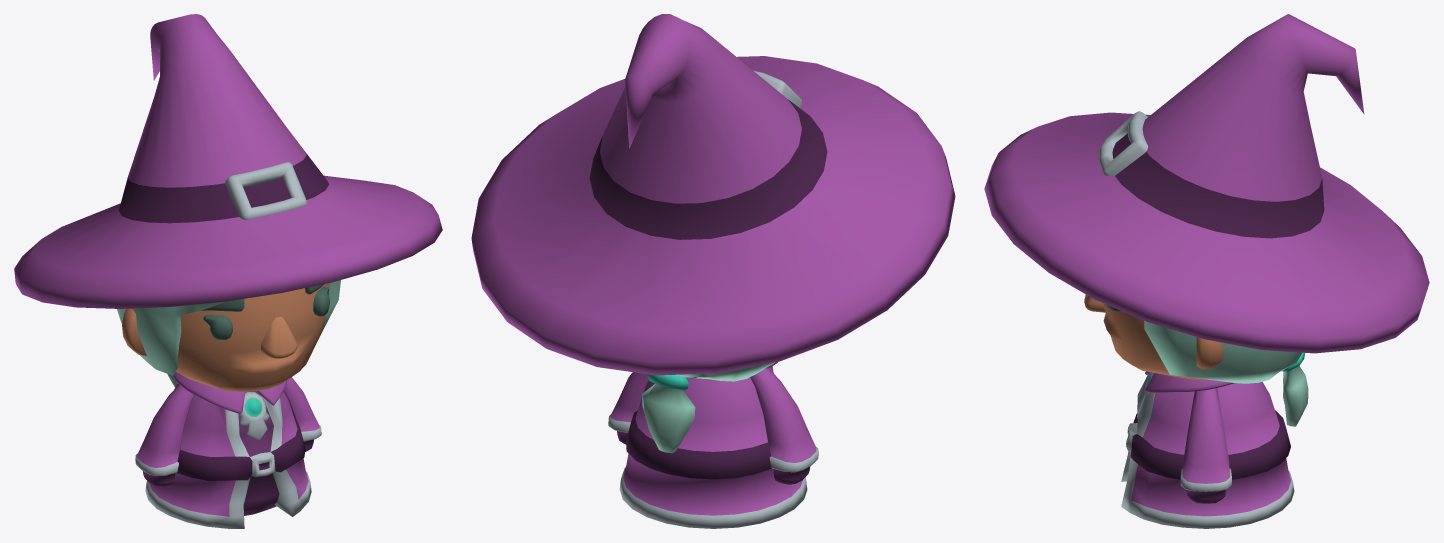
File: mage44.gltf
3 views of the same model, side by side, from view 1: azimuth 30°, elevation 25°; view 2: azimuth 150°, elevation 25°; view 3: azimuth 270°, elevation 25° (orthographic). The views are drawn at different scales.
Parts seen in each view (by area): view 1: character_mageHat, character_mageBody, character_mageHead, character_mageArmRight, character_mageHair, character_mageArnLeft; view 2: character_mageHat, character_mageBody, character_mageArmRight, character_mageHair, character_mageArnLeft; view 3: character_mageHat, character_mageBody, character_mageHair, character_mageArnLeft, character_mageHead.
Boxes of the visible parts, x1,y1,x2,y2 form: character_mageHat: (14, 14, 442, 308); character_mageBody: (145, 372, 311, 528); character_mageHead: (122, 283, 329, 391); character_mageArmRight: (135, 384, 194, 487); character_mageHair: (117, 280, 340, 387); character_mageArnLeft: (284, 377, 321, 451); character_mageHat: (471, 14, 955, 375); character_mageBody: (619, 362, 807, 528); character_mageArmRight: (750, 368, 818, 484); character_mageHair: (641, 362, 774, 453); character_mageArnLeft: (608, 372, 648, 444); character_mageHat: (984, 14, 1429, 353); character_mageBody: (1121, 371, 1294, 528); character_mageHair: (1144, 320, 1308, 426); character_mageArnLeft: (1180, 388, 1231, 503); character_mageHead: (1084, 294, 1223, 380).
Bounding box in the file's own units: 2.1 × 2.44 × 2.05.
